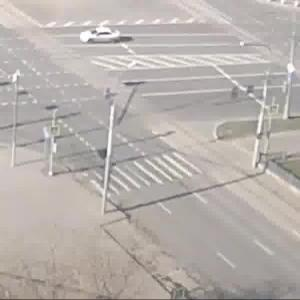car: (84, 26, 123, 48)
